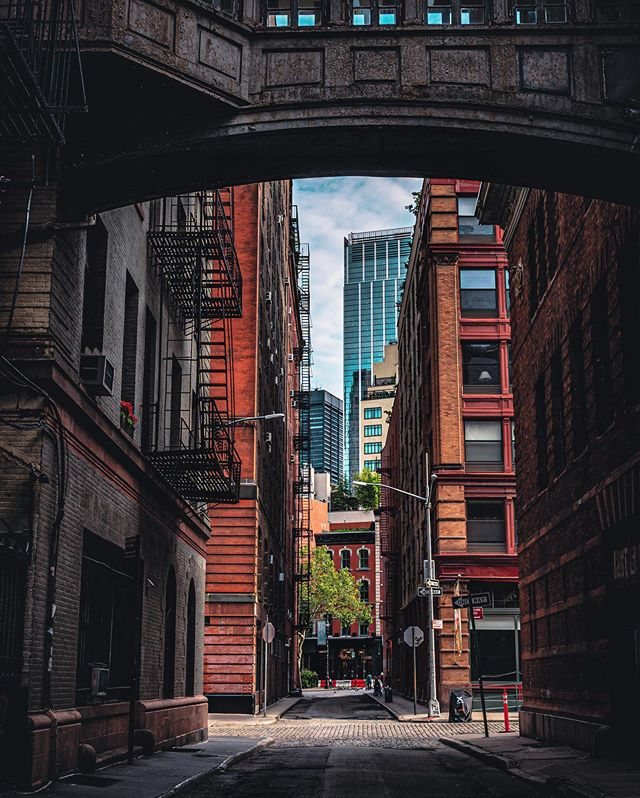building: (1, 1, 222, 735), (515, 76, 640, 732), (387, 173, 516, 688), (206, 160, 314, 708), (337, 219, 416, 459), (292, 512, 388, 685)
